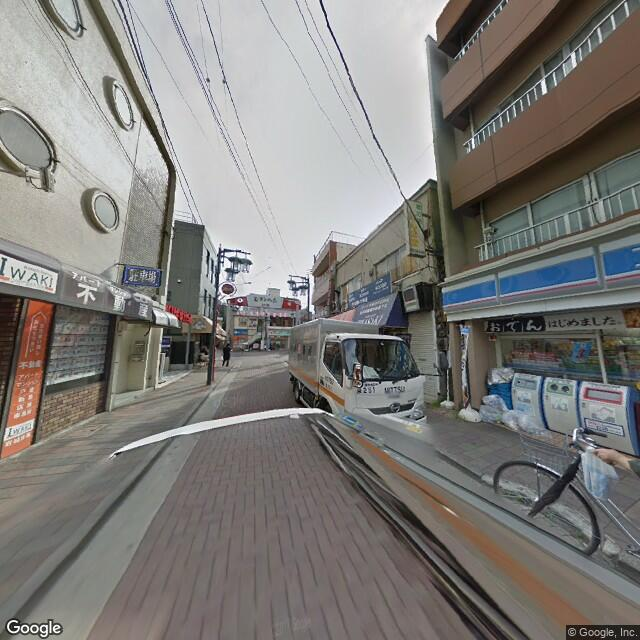lawson: (442, 228, 638, 312)
